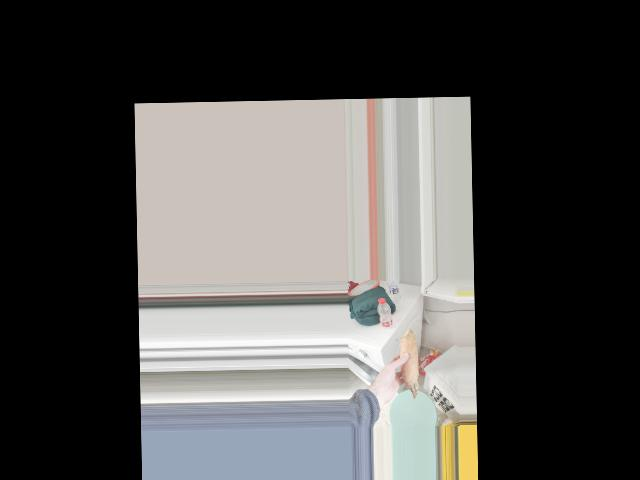sweet_potato: (395, 334, 420, 400)
